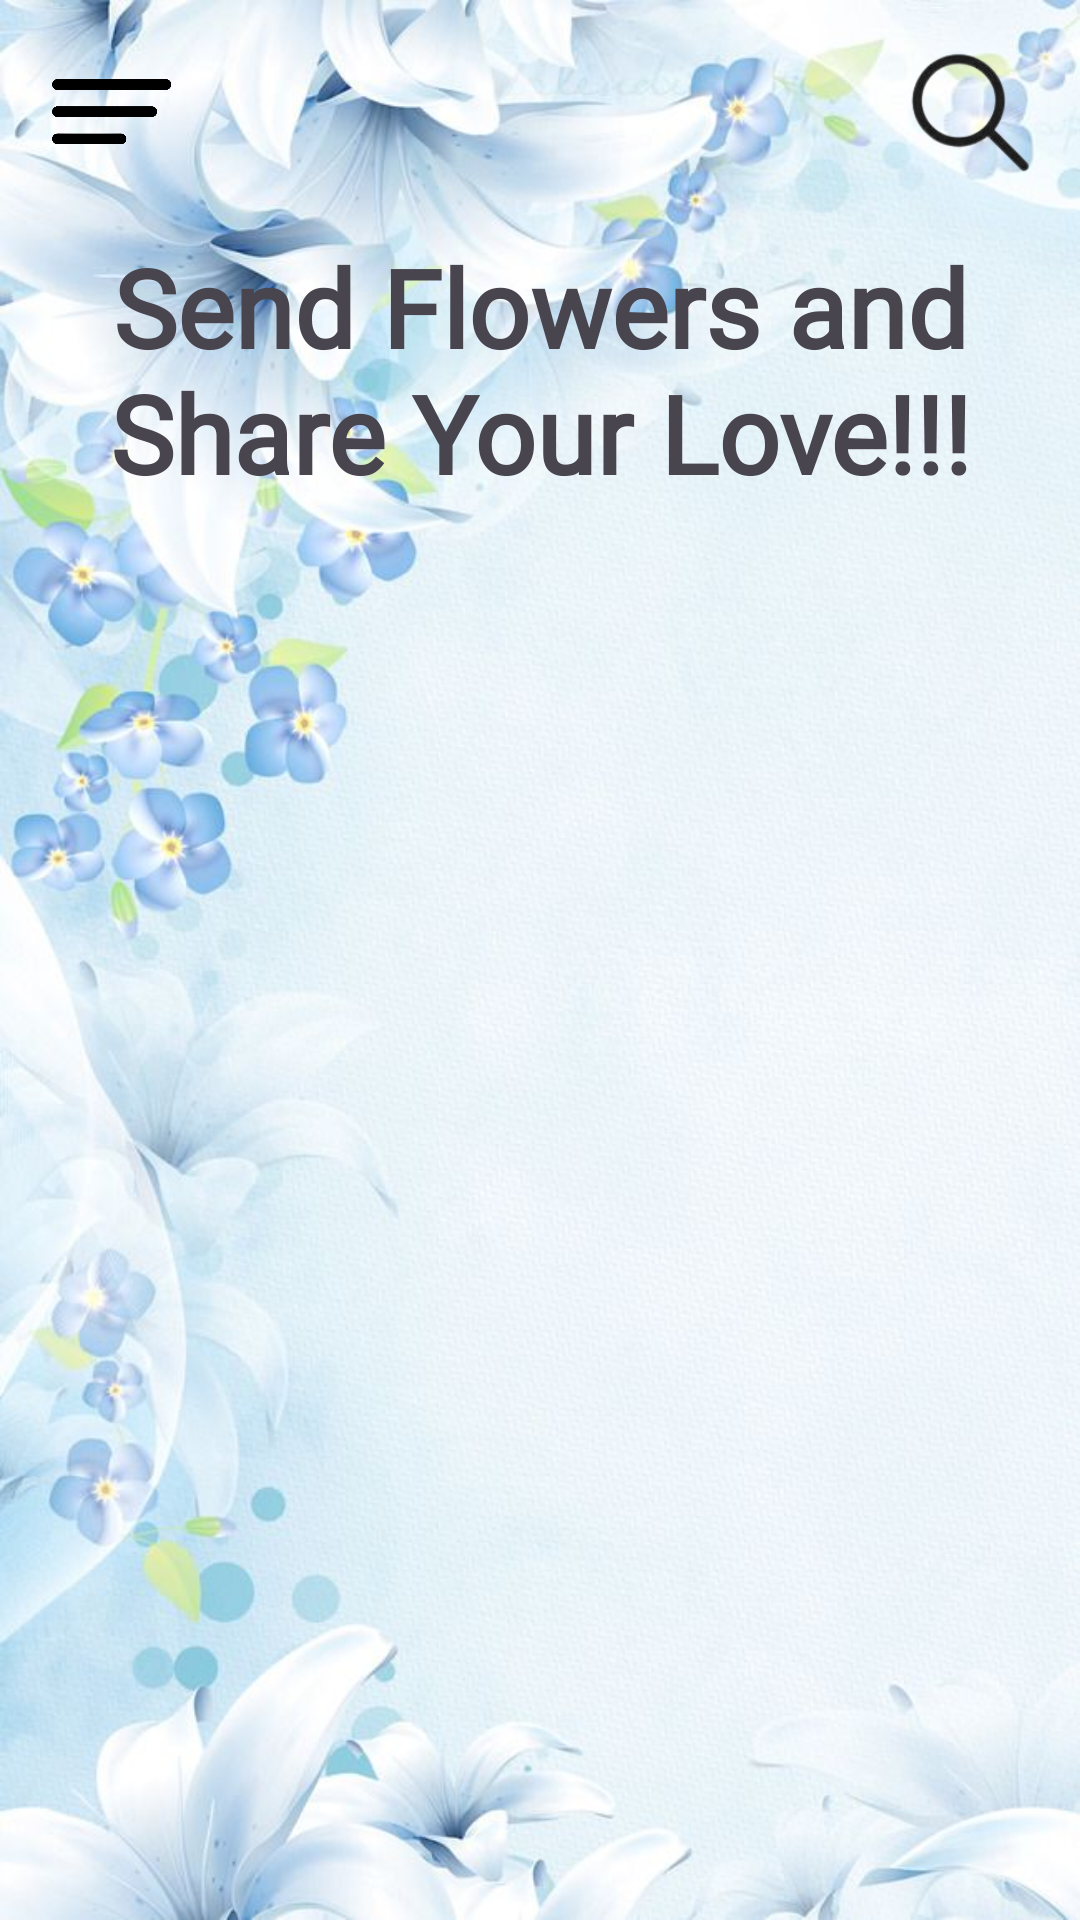

Icon click points for this 1080x1920 phone screenshot, format (x=x, y=y):
menu: (x=111, y=111)
search: (x=969, y=111)
